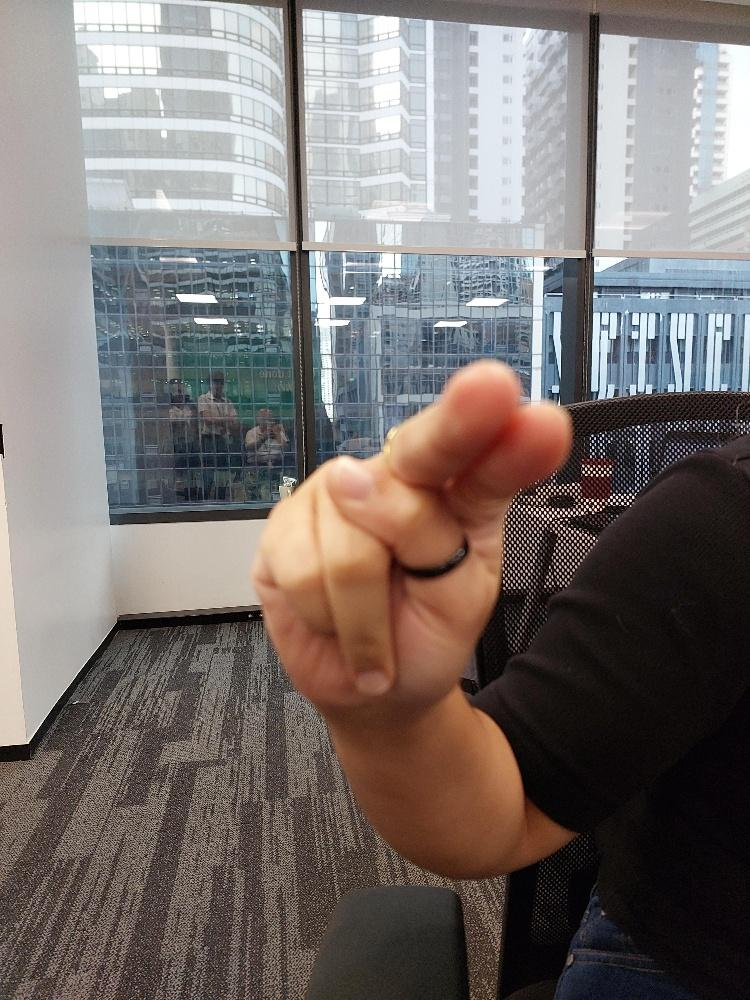n: (249, 354, 576, 728)
